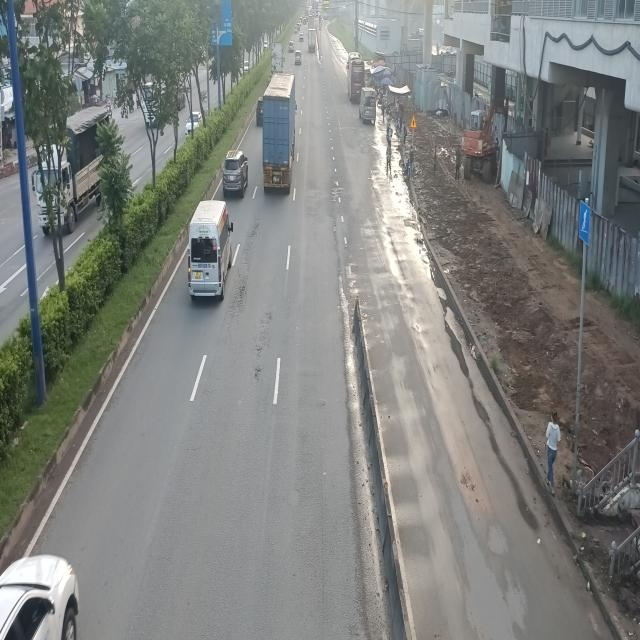car: (221, 150, 248, 199)
coach: (348, 56, 364, 101)
container: (263, 72, 298, 194)
van: (189, 198, 235, 301), (358, 87, 376, 123)
